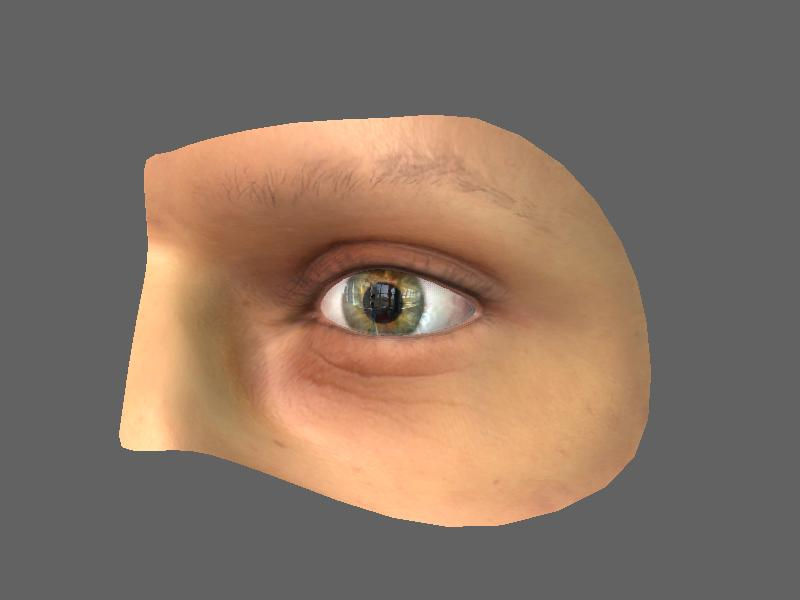iris: (338, 269, 428, 338)
